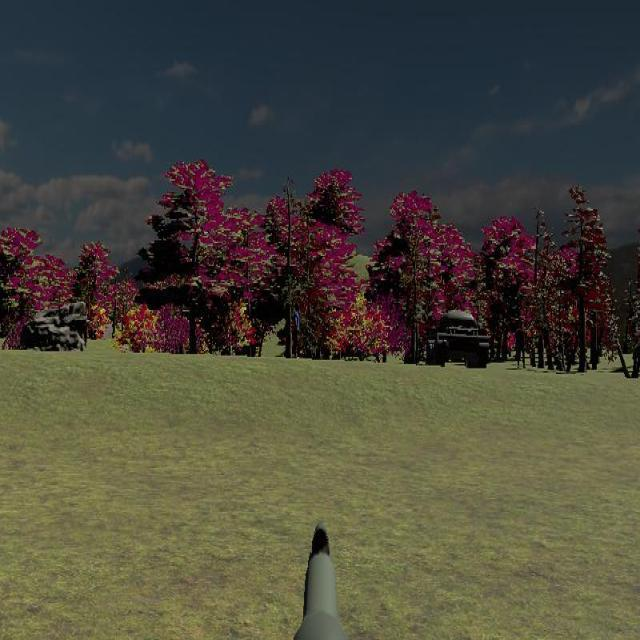Tank: (427, 308, 490, 368)
